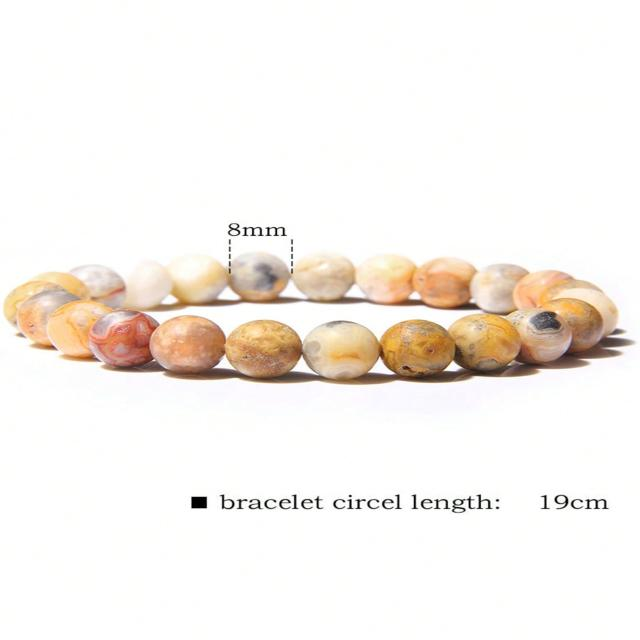bracelet: (0, 190, 640, 460)
